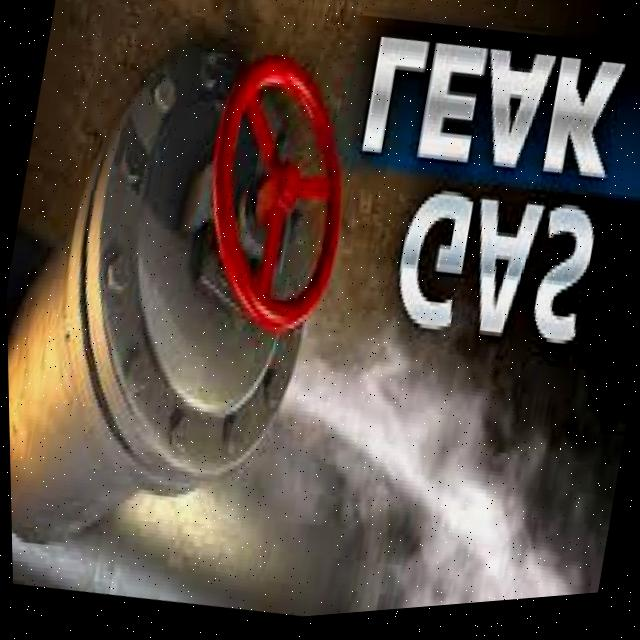corrosion: (216, 290, 503, 523)
